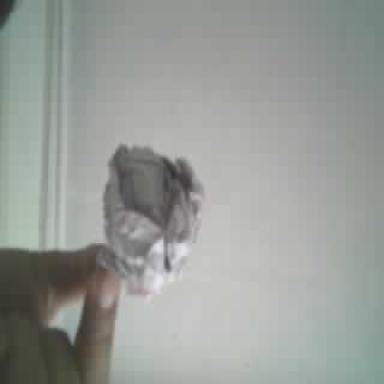paper: (98, 147, 203, 294)
